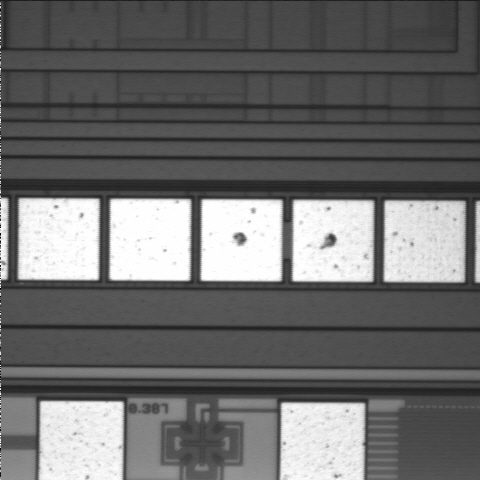pad: (292, 200, 374, 282), (18, 198, 99, 280), (110, 199, 191, 281), (201, 199, 282, 281), (384, 201, 465, 282)
